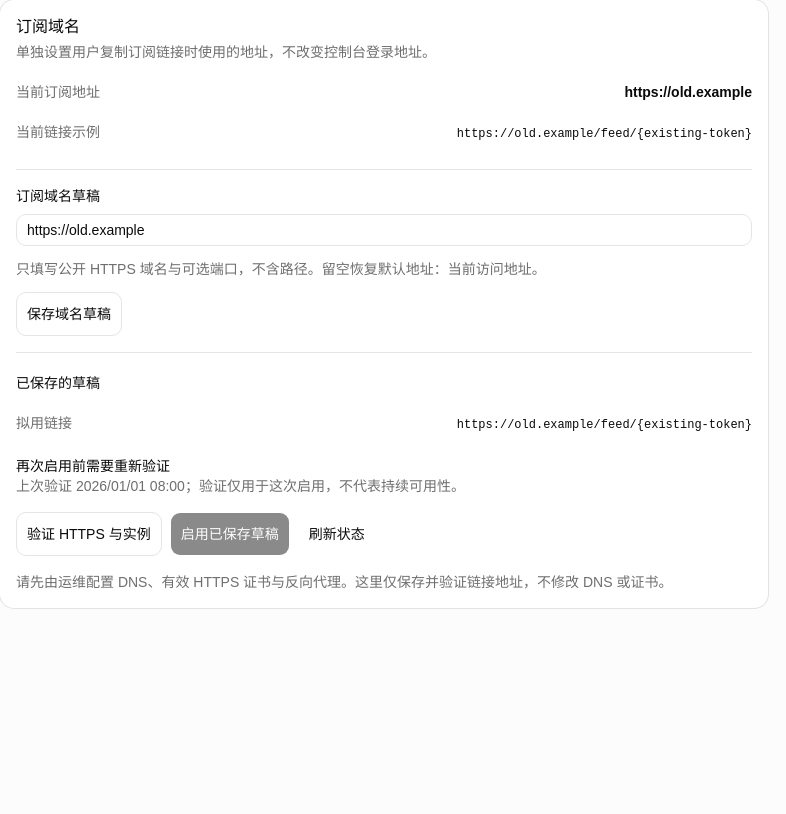
Test: keeps unsaved domain text when a stale write is followed by a failed state refresh
Expected: the text "https://old.example" is shown, [624,84,752,100]
Replace the text in the field labelled "订阅域名草稿" with "https://keep-this.example" at (384, 230), box [16,214,752,246]
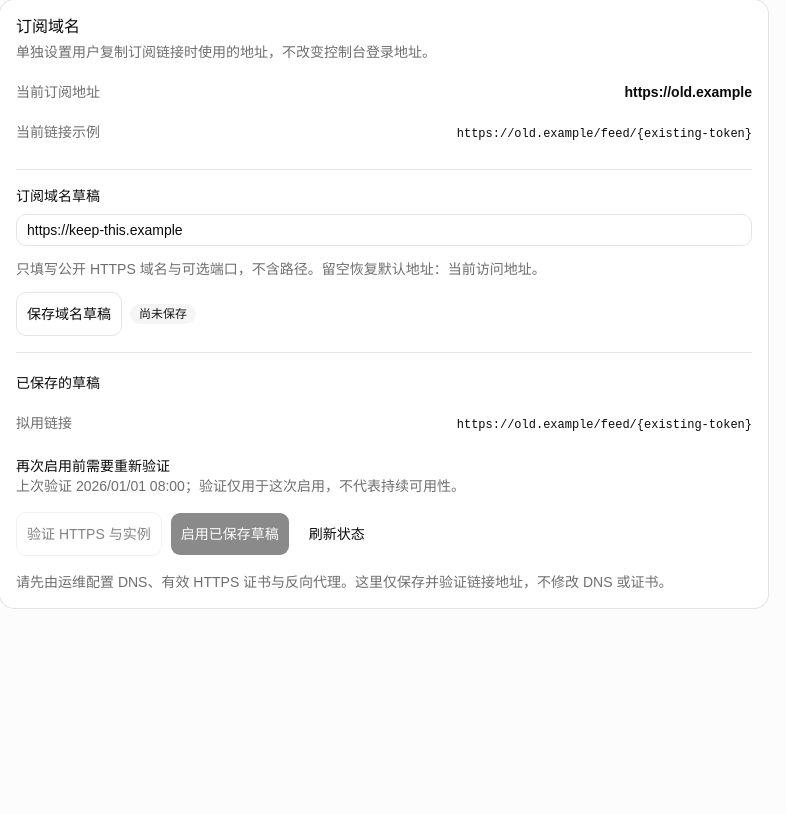
Click the button "保存域名草稿" at (69, 314), box [16,292,122,336]
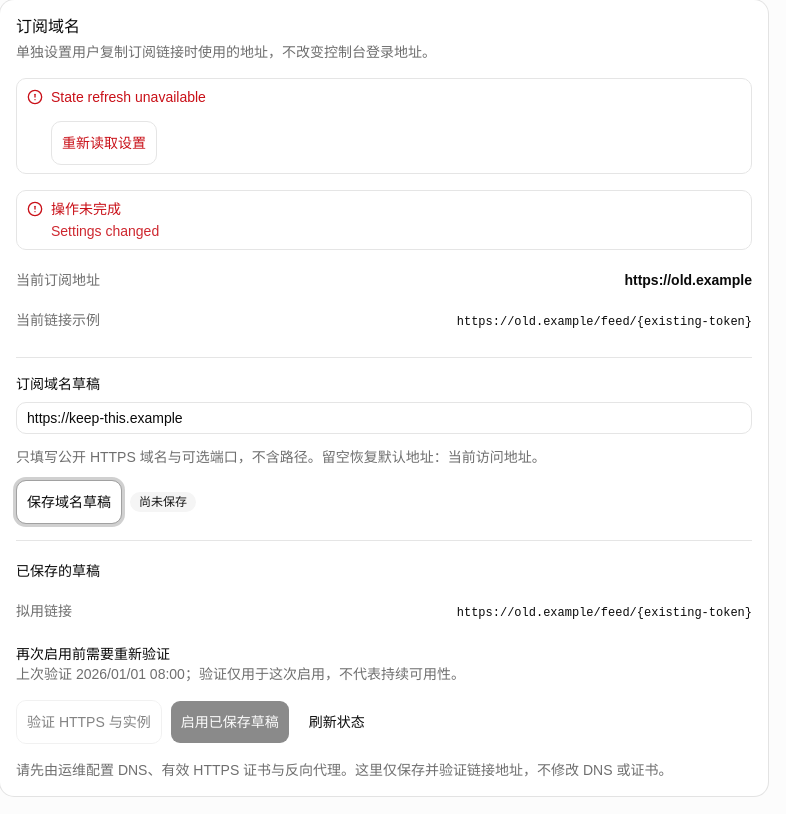
Expected: the text "State refresh unavailable" is shown, [51,89,206,105]
